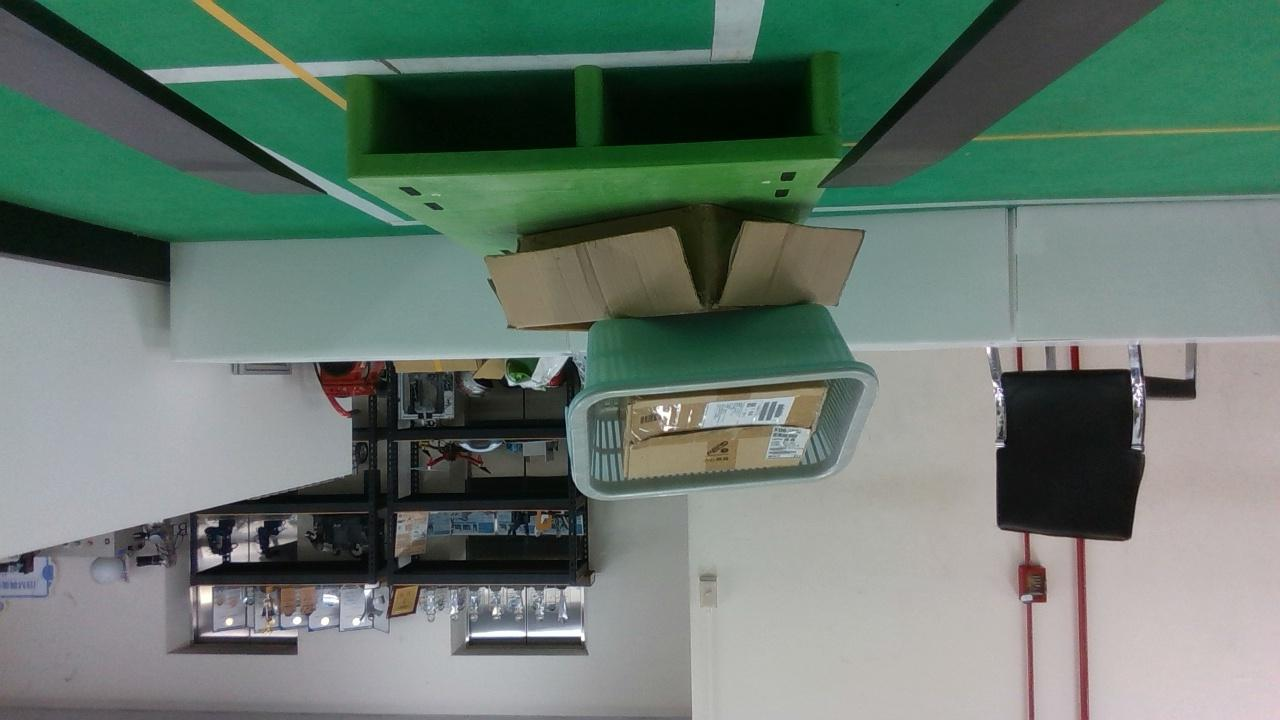Pallet: (347, 52, 844, 178)
